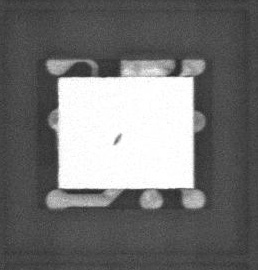DIE_INK: (111, 131, 124, 146)
